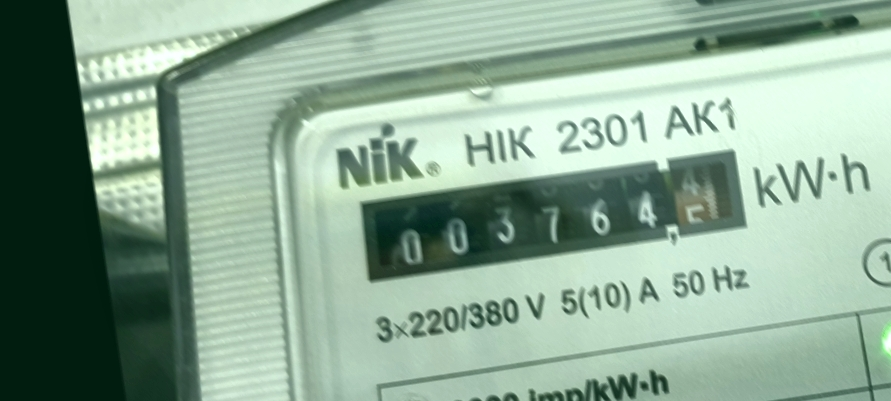0: (397, 225, 426, 265), (444, 214, 471, 256)
3: (490, 203, 518, 245)
4: (634, 187, 659, 229), (677, 163, 703, 197)
5: (683, 201, 707, 225)
6: (587, 195, 613, 236)
7: (538, 200, 567, 245)
screen: (341, 129, 764, 298)
